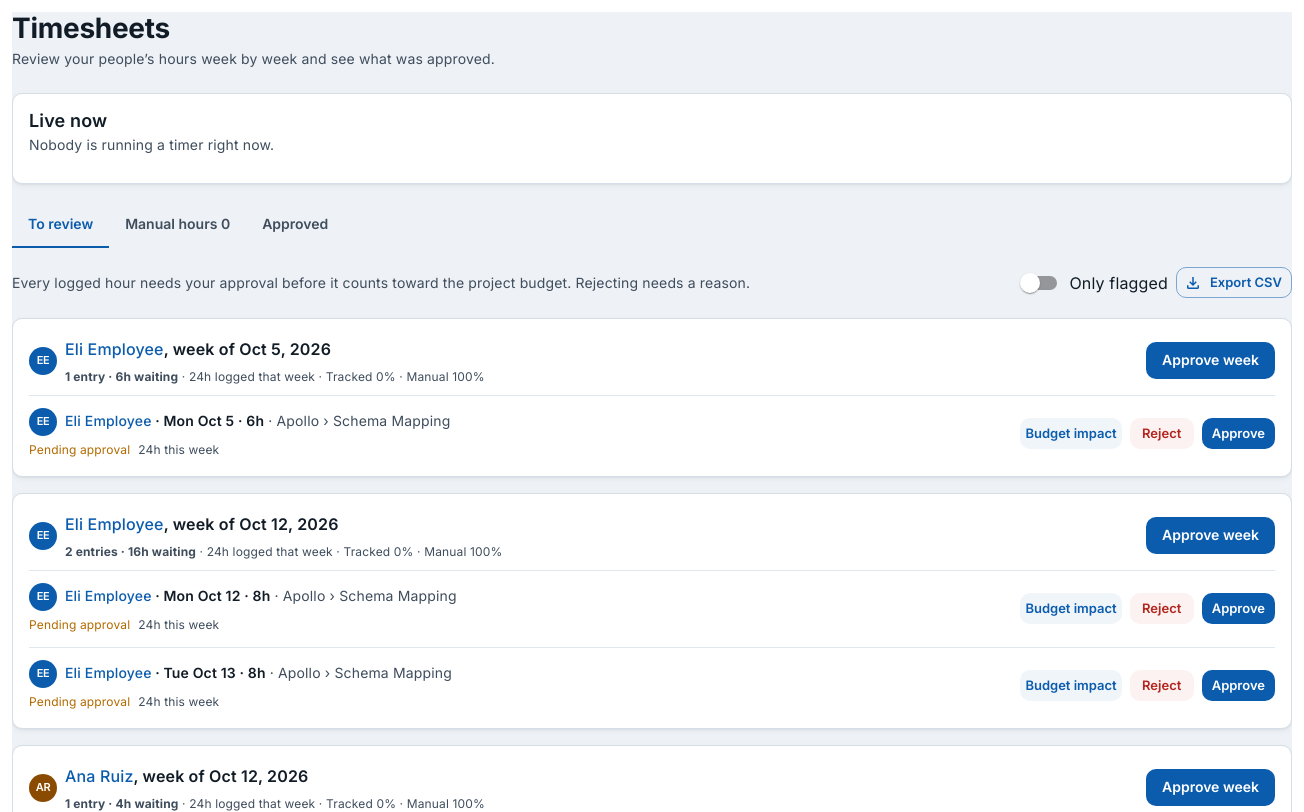
Timesheets: To review › pending hours are grouped by person and week, and a whole week is approved in one click
Expected: the text "2 entries · 16h waiting" is shown, [65,544,196,559]
Expected: the element named "eli employee, week of oct 5, 2026" is shown, [12,318,1292,477]
Click the button "Approve week" in the row of "2 entries · 16h waiting": coordinates (1210, 536) [1146,518,1275,554]
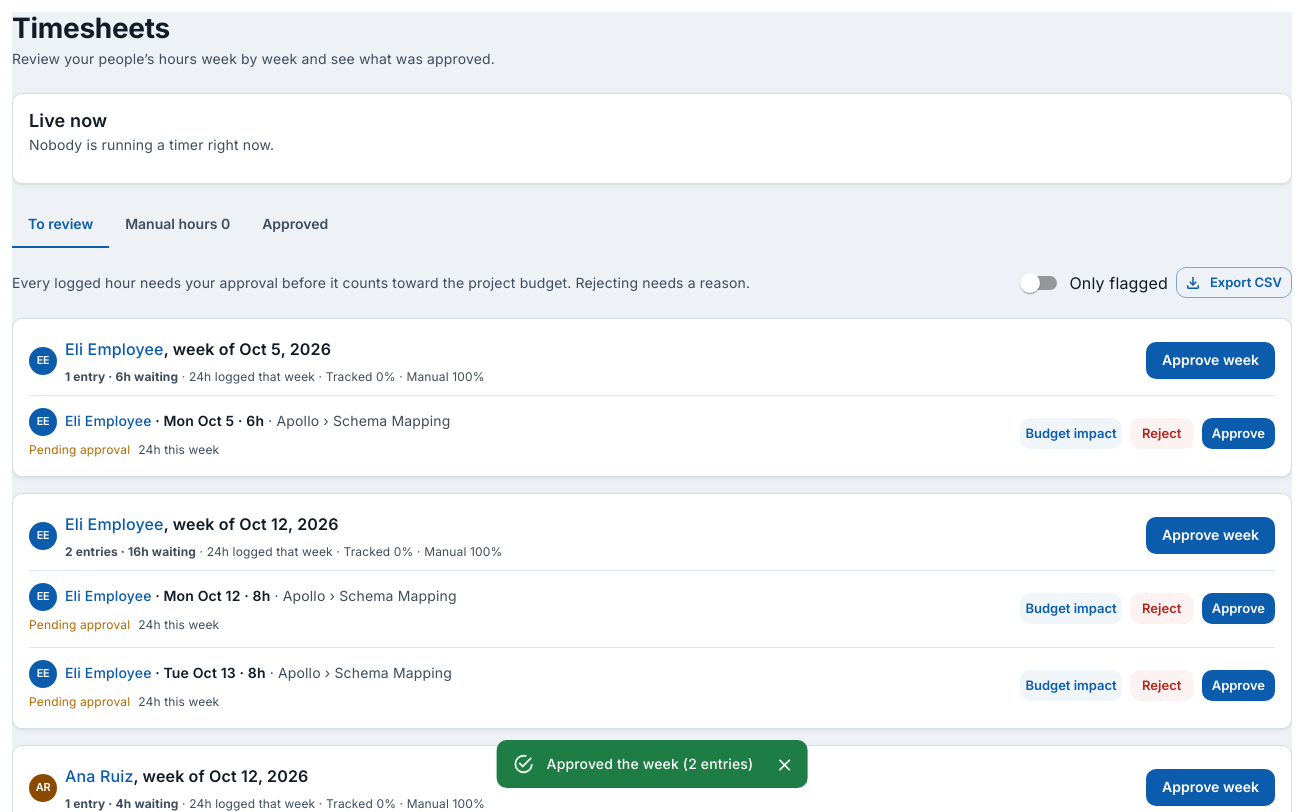
Expected: the text "Approved the week (2 entries)" is shown, [547,755,753,772]
